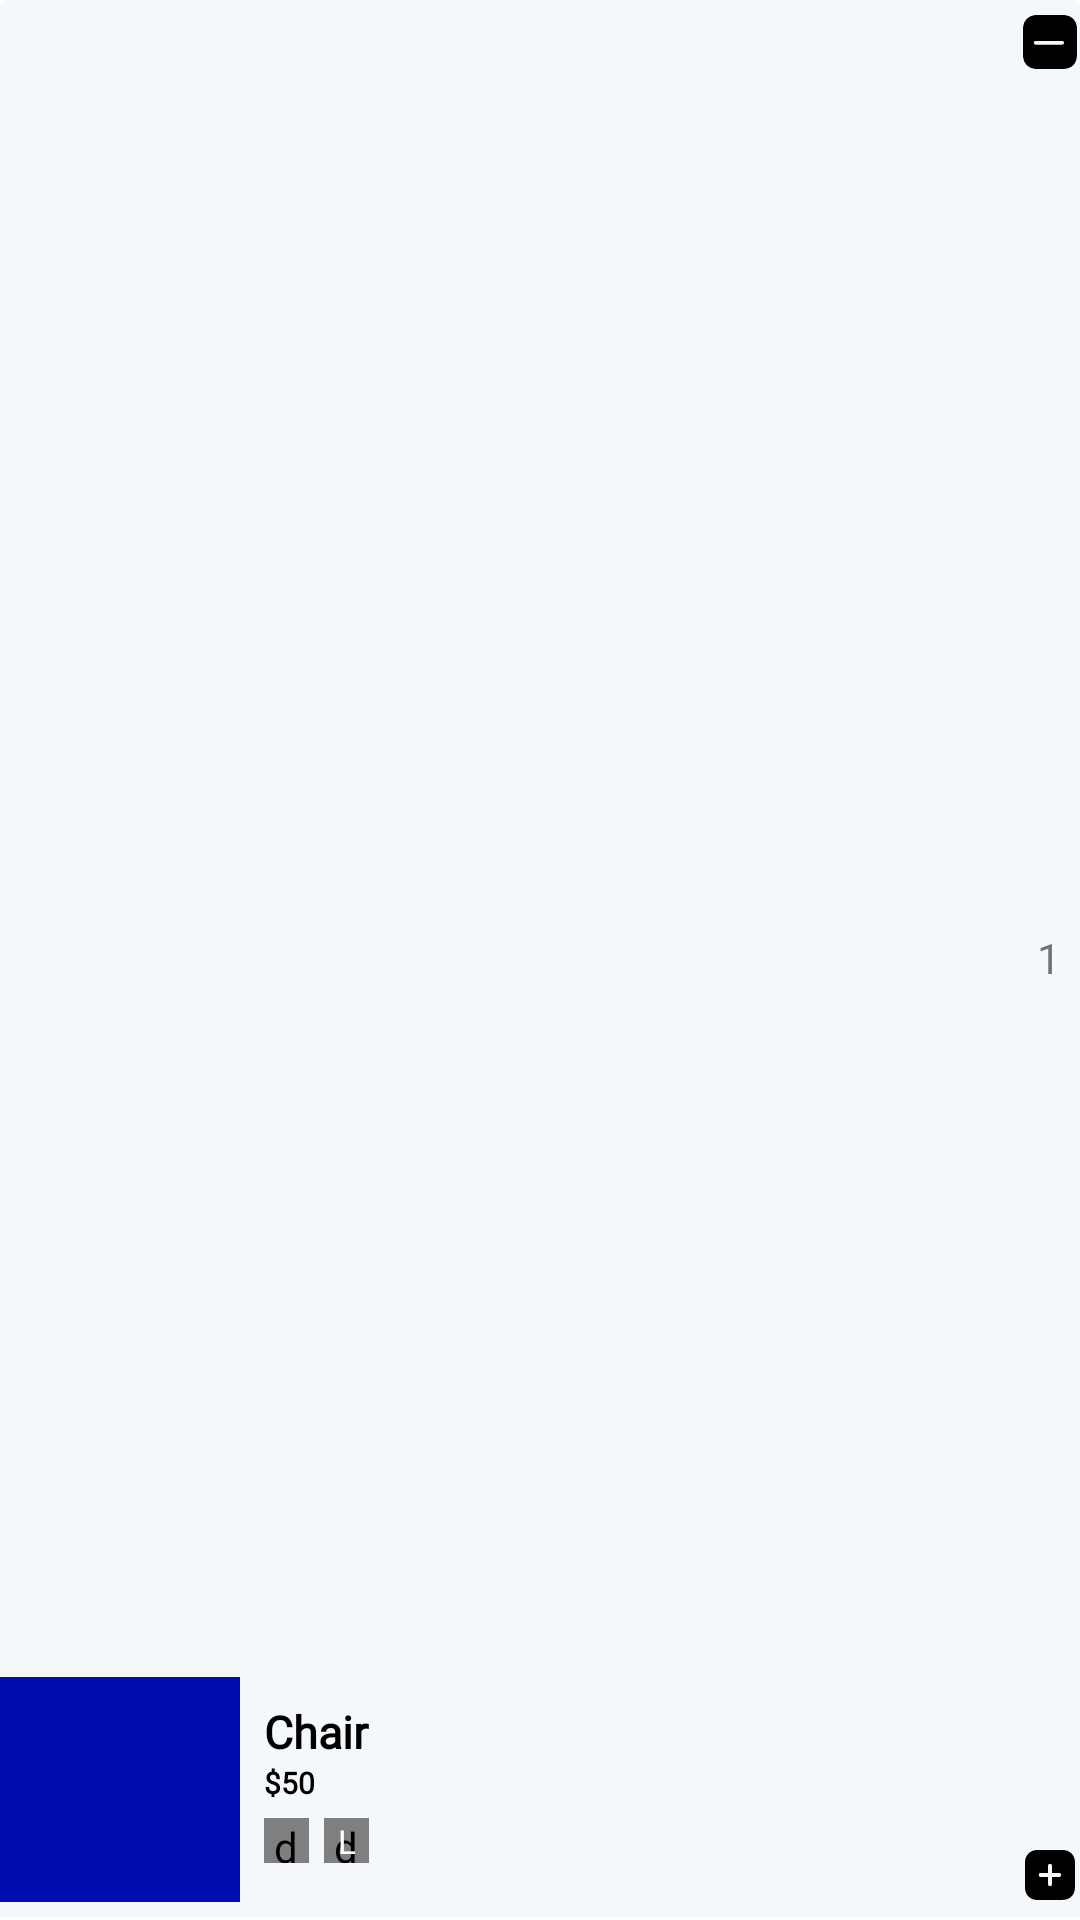

Named icons in this screenshot (1080x1920) and their bounding boxes, (x1=x1, y1=y1, x2=x2, y2=y2):
minus: (x1=1023, y1=15, x2=1077, y2=69)
plus: (x1=1025, y1=1850, x2=1075, y2=1900)
